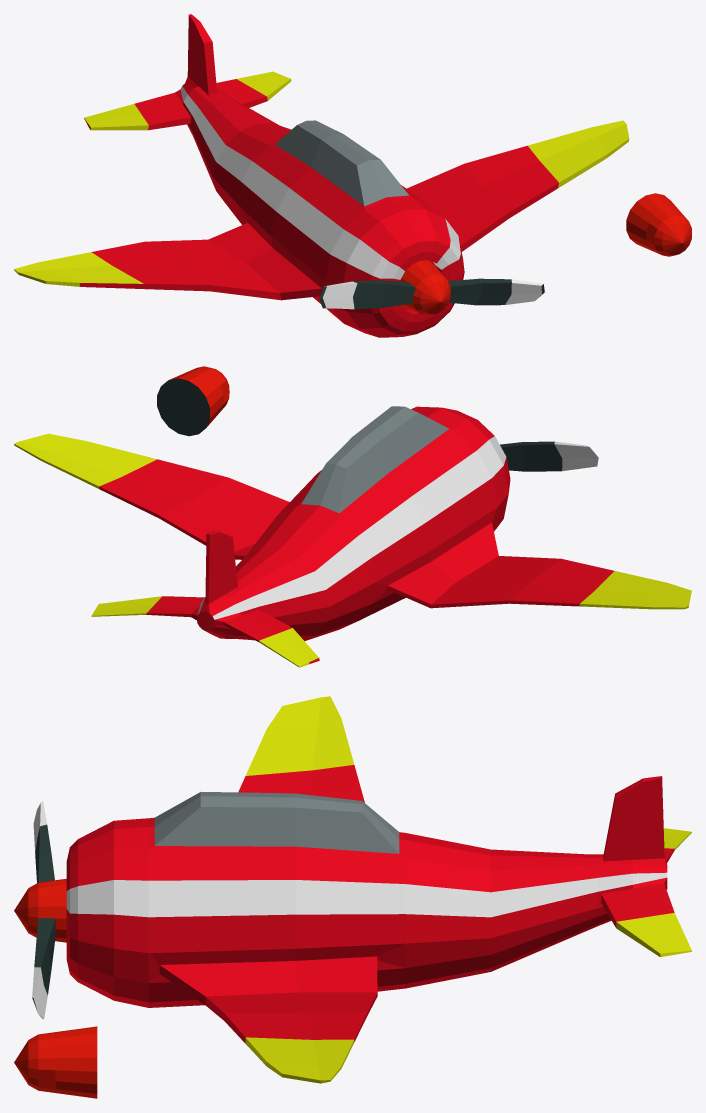
Rendered from aviao1.fbx.
3 views of the same model, one above another, from view 1: azimuth 30°, elevation 25°; view 2: azimuth 150°, elevation 25°; view 3: azimuth 270°, elevation 25° (orthographic). The views are drawn at different scales.
Visible parts, largest first — view 1: Aviao, Helice, Helice alone; view 2: Aviao, Helice alone, Helice; view 3: Aviao, Helice, Helice alone.
Boxes of the visible parts, x1,y1,x2,y2 form: Aviao: [14, 14, 629, 337]; Helice: [319, 260, 544, 315]; Helice alone: [626, 193, 691, 256]; Aviao: [14, 406, 691, 667]; Helice alone: [157, 366, 229, 436]; Helice: [500, 441, 598, 471]; Aviao: [66, 696, 691, 1083]; Helice: [14, 801, 66, 1019]; Helice alone: [14, 1026, 97, 1098].
Size of the model in its own units: 1008 by 273 by 753.
